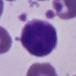L: (18, 19, 59, 58)
